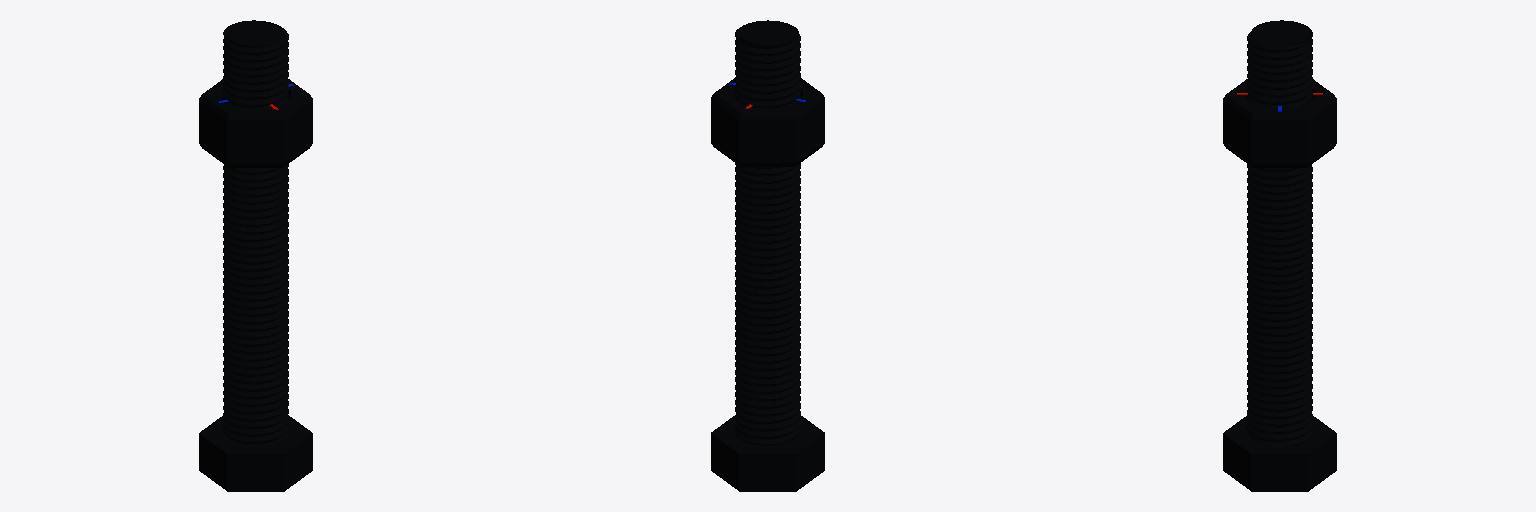
The robot description file, URDF, robot "m24x3_160_hex_nut_bolt":
<?xml version="1.0"?>
<robot name="m24x3_160_hex_nut_bolt">
  <!-- Dimensions are in metres. The head is the fixed base of the task. -->
  <link name="base">
    <visual>
      <geometry><mesh filename="../../meshes/m24_hex_bolt_head_36x15.stl"/></geometry>
      <material name="black_oxide"><color rgba="0.045 0.050 0.055 1"/></material>
    </visual>
    <collision>
      <geometry><mesh filename="../../meshes/m24_hex_bolt_head_36x15.stl"/></geometry>
    </collision>
    <inertial>
      <mass value="10.0"/>
      <origin xyz="0 0 -0.0075"/>
      <inertia ixx="0.001" ixy="0" ixz="0" iyy="0.001" iyz="0" izz="0.001"/>
    </inertial>
  </link>

  <link name="bolt">
    <!-- Analytic core first: point-cloud tools read this cylinder. -->
    <visual>
      <origin xyz="0 0 0.08"/>
      <geometry><cylinder radius="0.0105" length="0.160"/></geometry>
      <material name="black_oxide"/>
    </visual>
    <visual>
      <geometry><mesh filename="../../meshes/m24x3_bolt_thread_160.stl"/></geometry>
      <material name="black_oxide"/>
    </visual>
    <collision>
      <origin xyz="0 0 0.08"/>
      <geometry><cylinder radius="0.012" length="0.160"/></geometry>
    </collision>
    <inertial>
      <mass value="0.57"/>
      <origin xyz="0 0 0.08"/>
      <inertia ixx="0.001237" ixy="0" ixz="0" iyy="0.001237" iyz="0" izz="0.000041"/>
    </inertial>
  </link>

  <link name="nut">
    <visual>
      <geometry><mesh filename="../../meshes/m24x3_hex_nut_36x21p5.stl"/></geometry>
      <material name="black_oxide"/>
    </visual>
    <collision>
      <geometry><mesh filename="../../meshes/m24x3_hex_nut_36x21p5.stl"/></geometry>
    </collision>
    <inertial>
      <mass value="0.12"/>
      <inertia ixx="0.0000198" ixy="0" ixz="0" iyy="0.0000198" iyz="0" izz="0.0000303"/>
    </inertial>
    <!-- Colored top markers make rotation direction visible in the viewer. -->
    <visual>
      <origin xyz="0 0 0.0109"/>
      <geometry><box size="0.0012 0.031 0.0003"/></geometry>
      <material name="marker_red"><color rgba="0.85 0.05 0.03 1"/></material>
    </visual>
    <visual>
      <origin xyz="0 0 0.0111" rpy="0 0 1.5707963"/>
      <geometry><box size="0.0012 0.031 0.0003"/></geometry>
      <material name="marker_blue"><color rgba="0.03 0.15 0.85 1"/></material>
    </visual>
  </link>

  <joint name="base_screw_fixed" type="fixed">
    <parent link="base"/>
    <child link="bolt"/>
    <origin xyz="0 0 0" rpy="0 0 0"/>
  </joint>

  <joint name="nut_joint" type="revolute">
    <parent link="bolt"/>
    <child link="nut"/>
    <origin xyz="0 0 0.125" rpy="0 0 0"/>
    <axis xyz="0 0 -1"/>
    <dynamics friction="0.2" damping="0.01"/>
    <limit lower="0.0" upper="628.3185" effort="2.0" velocity="6.2832"/>
  </joint>
</robot>

--- Facts derived from the render (not from the file) ---
Views: 3 orthographic renders of the robot side by side, from view 1: azimuth 30°, elevation 25°; view 2: azimuth 150°, elevation 25°; view 3: azimuth 270°, elevation 25°.
Robot: m24x3_160_hex_nut_bolt — 3 links, 2 joints (1 revolute, 1 fixed); root link base; default pose: all joints at 0.
Links seen in each view (by area): view 1: bolt, nut, base; view 2: bolt, nut, base; view 3: bolt, nut, base.
Boxes of the visible links, x1,y1,x2,y2 form: bolt: (223, 20, 288, 445); nut: (199, 79, 312, 167); base: (199, 415, 312, 491); bolt: (735, 20, 800, 445); nut: (711, 78, 824, 166); base: (711, 416, 824, 491); bolt: (1247, 20, 1312, 446); nut: (1223, 79, 1336, 167); base: (1223, 415, 1336, 491).
Bounding box of the posed robot: 0.036 × 0.0416 × 0.175 m (x, y, z).
3 mesh visuals loaded from 3 distinct referenced files (3 binary STL).
